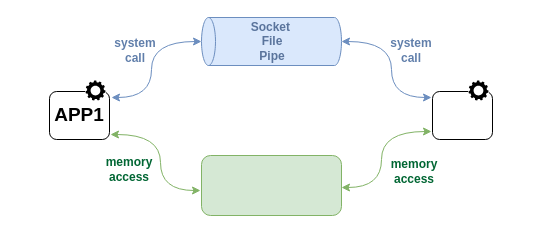
Some shapes in this 559 by 233 pixel diagram are drawn without their labels. Each missing label, with the centre of its shape:
"APP2" belongs at pixel 462 115.
"Shared Memory" belongs at pixel 271 185.
